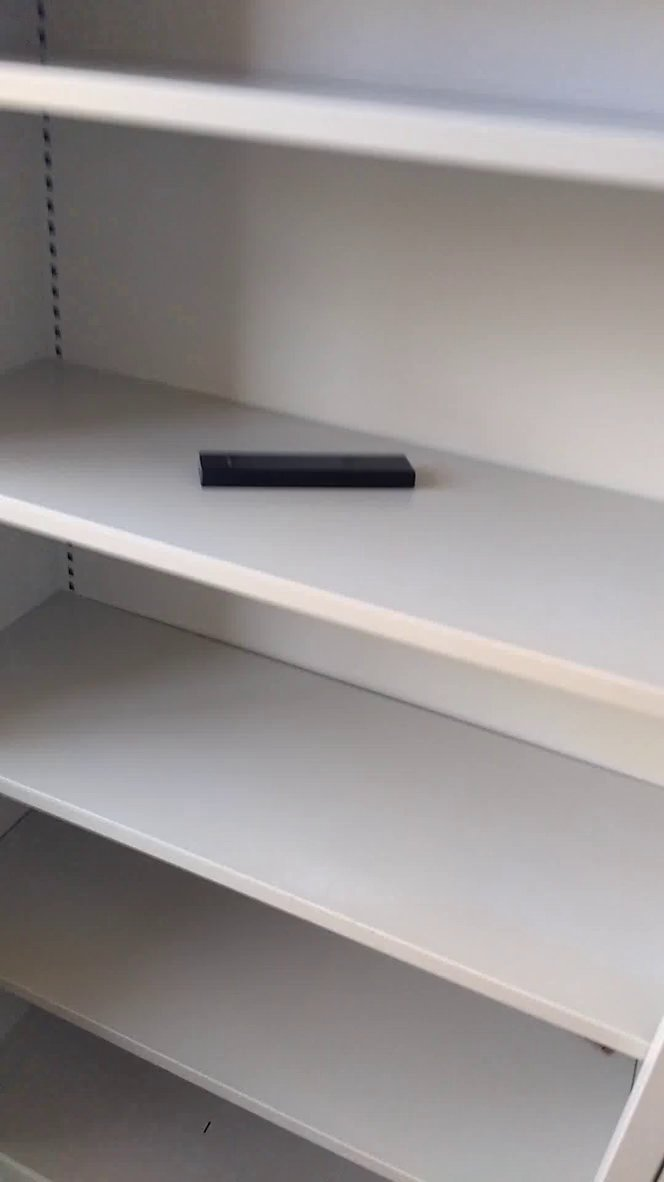remote: (173, 440, 426, 505)
